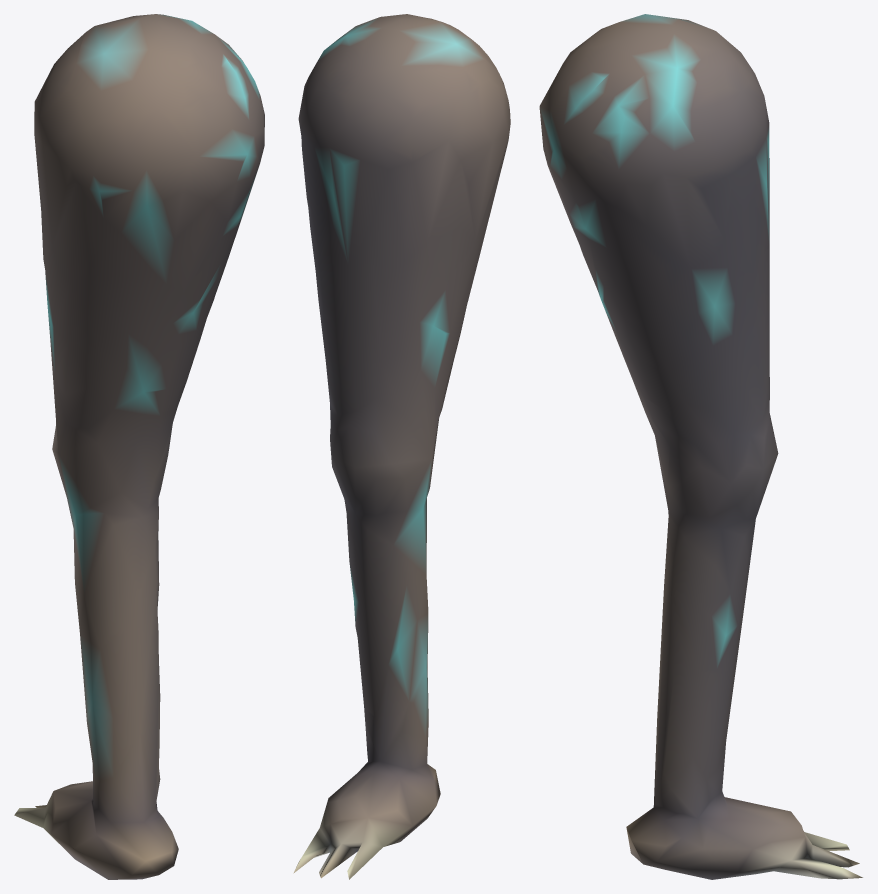
The model's file is hound_leg_fl.glb.
3 renders of one model, left to right at view 1: azimuth 30°, elevation 25°; view 2: azimuth 150°, elevation 25°; view 3: azimuth 270°, elevation 25°, orthographic. The views are drawn at different scales.
Parts seen in each view (by area): view 1: geometry_0; view 2: geometry_0; view 3: geometry_0.
Boxes of the visible parts, x1,y1,x2,y2 form: geometry_0: [14, 14, 264, 879]; geometry_0: [293, 14, 510, 879]; geometry_0: [539, 14, 862, 879].
Bounding box in the file's own units: 0.2244 × 0.9014 × 0.313.
